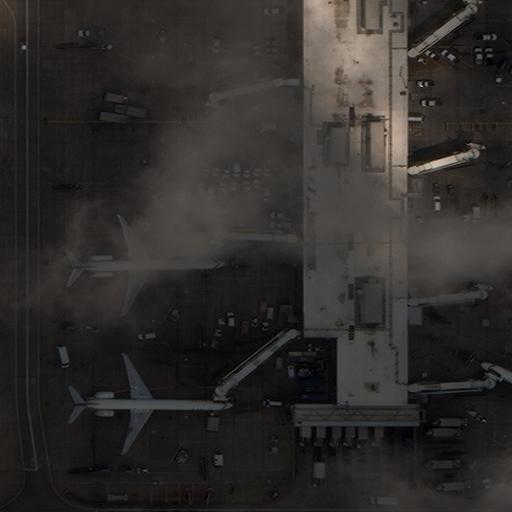Medium Civil Transport: (70, 354, 236, 454), (70, 216, 228, 315)
